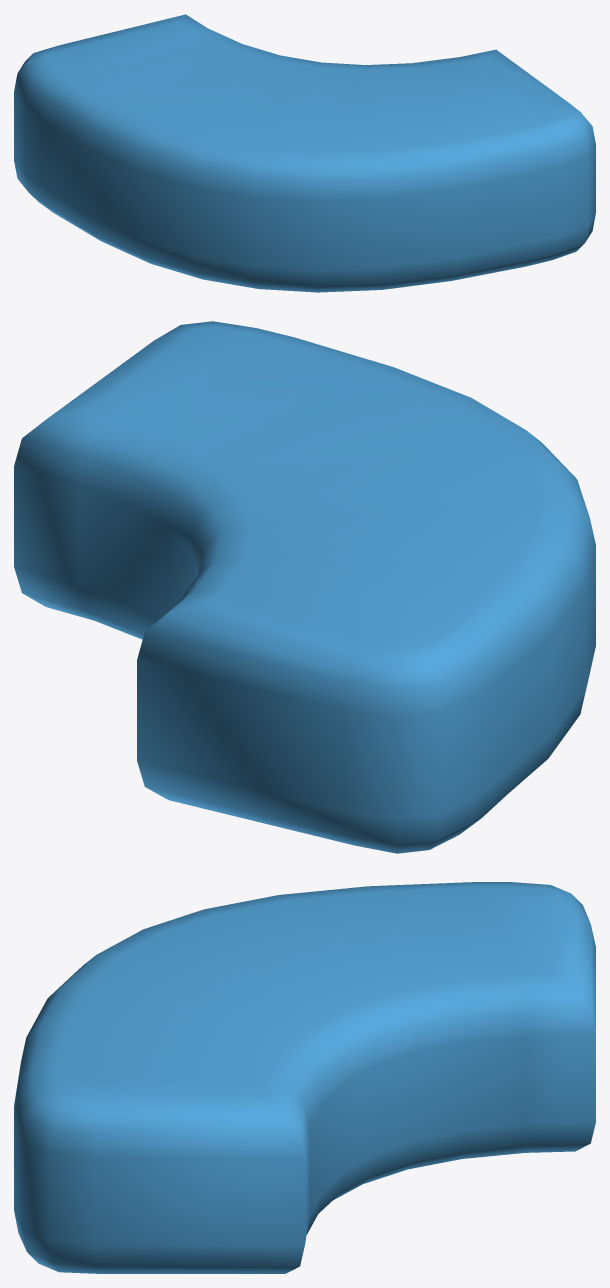
The model's file is IndicatorMove.FBX.
3 views of the same model, one above another, from view 1: azimuth 30°, elevation 25°; view 2: azimuth 150°, elevation 25°; view 3: azimuth 270°, elevation 25° (orthographic). The views are drawn at different scales.
Parts seen in each view (by area): view 1: Idicator; view 2: Idicator; view 3: Idicator.
Part boxes in pixels (x1,y1,x2,y2): Idicator: (14, 14, 595, 292); Idicator: (14, 321, 595, 853); Idicator: (14, 882, 595, 1273).
Size of the model in its own units: 26.52 by 8.63 by 26.52.
1 material, 1 textured.
